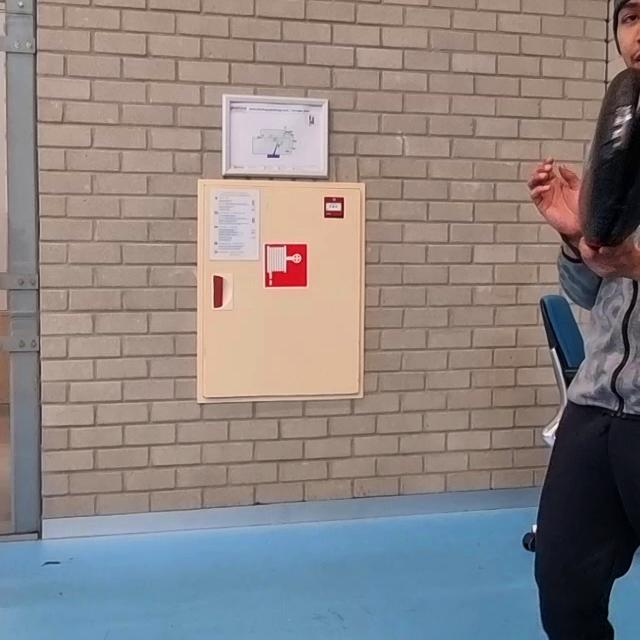paddle: (565, 70, 640, 247)
